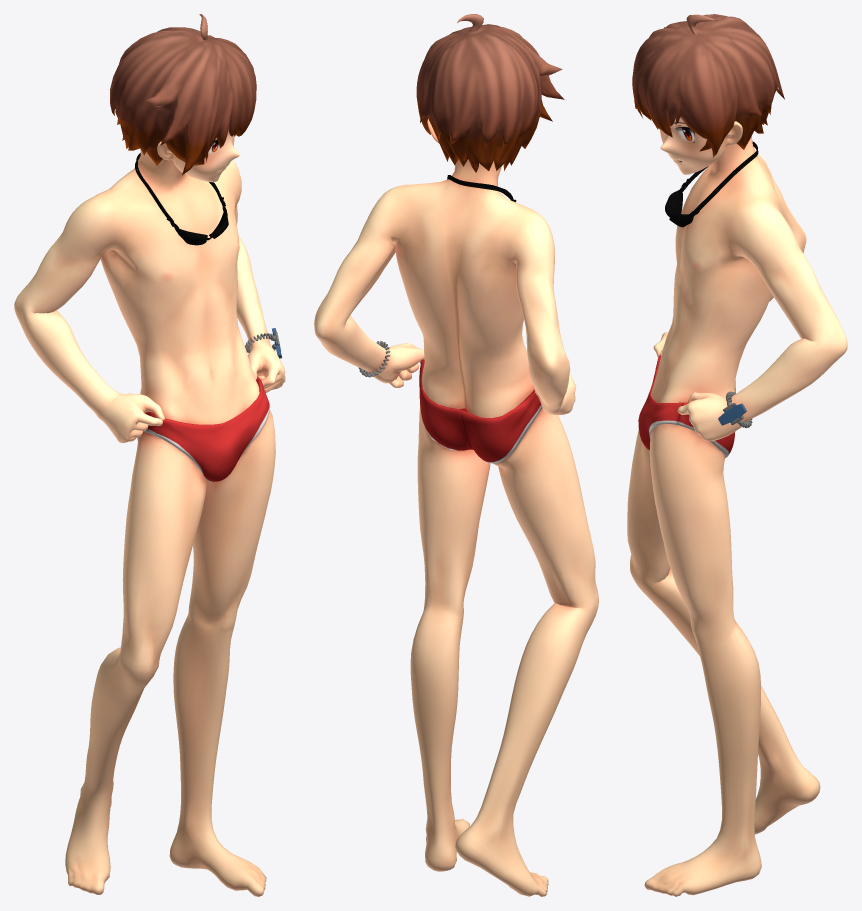
3 renders of one model, left to right at view 1: azimuth 30°, elevation 25°; view 2: azimuth 150°, elevation 25°; view 3: azimuth 270°, elevation 25°, orthographic. The views are drawn at different scales.
Visible parts, largest first — view 1: body_lp, mizugi_lp, face_lp, glass; view 2: body_lp, mizugi_lp; view 3: body_lp, mizugi_lp, face_lp, glass, pCube1.
Boxes of the visible parts, bbox=[...] form: body_lp: bbox=[14, 149, 285, 896]; mizugi_lp: bbox=[110, 14, 270, 481]; face_lp: bbox=[157, 129, 239, 182]; glass: bbox=[135, 153, 228, 245]; body_lp: bbox=[314, 159, 598, 896]; mizugi_lp: bbox=[416, 14, 564, 463]; body_lp: bbox=[627, 136, 847, 896]; mizugi_lp: bbox=[632, 14, 784, 457]; face_lp: bbox=[659, 117, 742, 174]; glass: bbox=[665, 141, 758, 227]; pCube1: bbox=[718, 391, 752, 428].
Size of the model in its own units: 0.4565 by 1.6 by 0.3709.
1 material, 1 textured.
